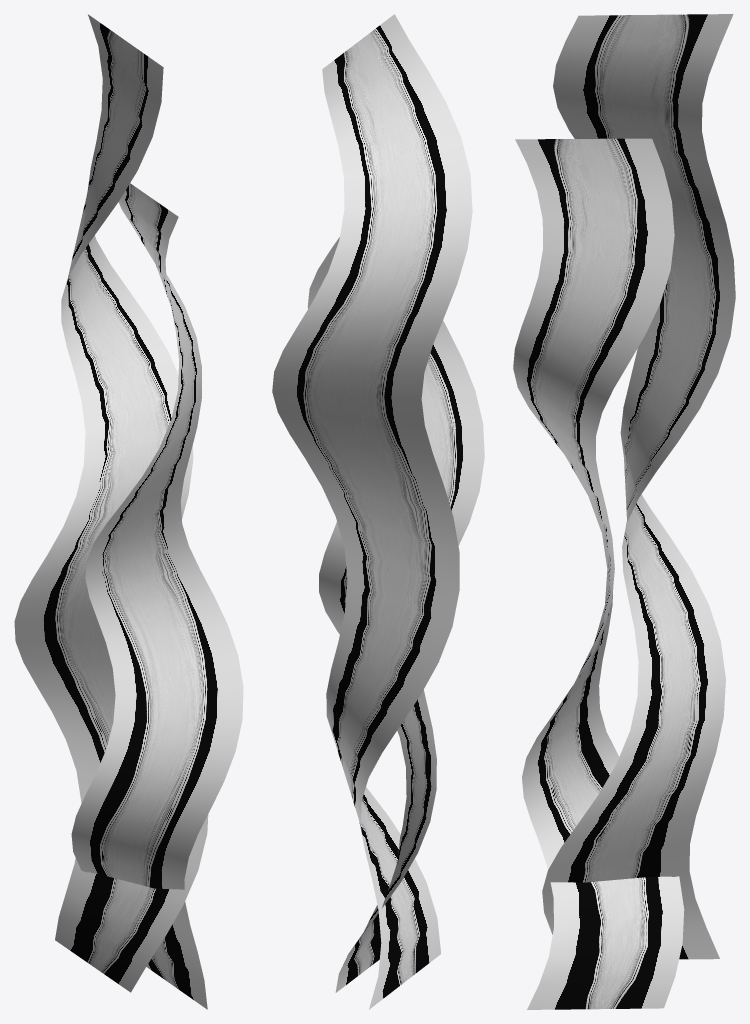
The model's file is Smoke.fbx.
3 views of the same model, side by side, from view 1: azimuth 30°, elevation 25°; view 2: azimuth 150°, elevation 25°; view 3: azimuth 270°, elevation 25° (orthographic). The views are drawn at different scales.
Parts seen in each view (by area): view 1: smoke; view 2: smoke; view 3: smoke.
Boxes of the visible parts, x1,y1,x2,y2 form: smoke: (14, 14, 243, 1009); smoke: (272, 14, 484, 1009); smoke: (513, 14, 735, 1009).
Size of the model in its own units: 93.04 by 484 by 99.27.
